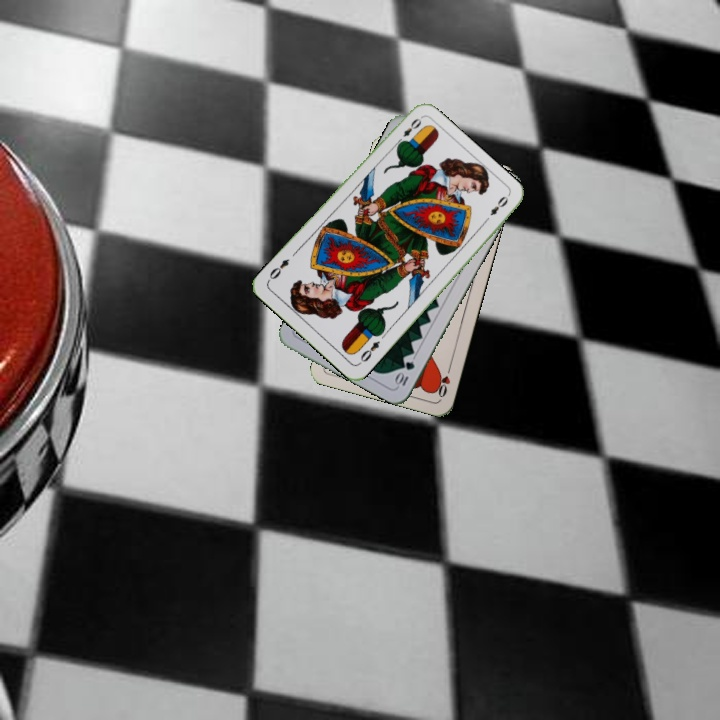EO: (392, 114, 424, 147), (355, 337, 382, 367)
G10: (391, 357, 417, 389)
HO: (432, 361, 454, 400)
